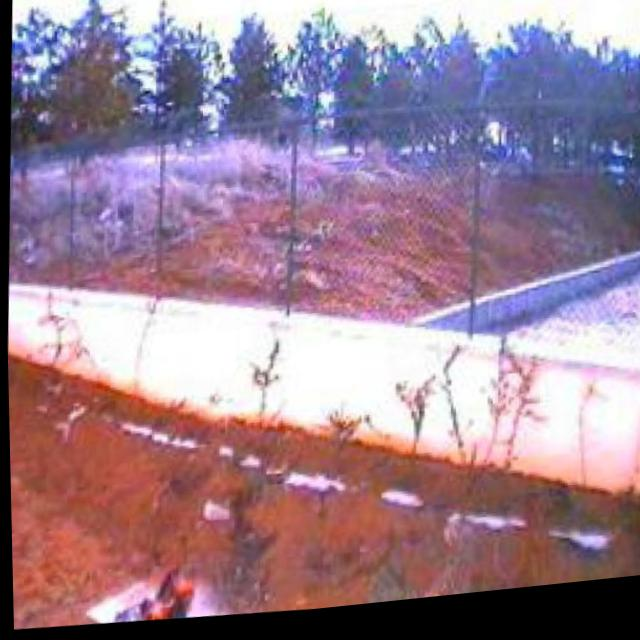Fire: (132, 570, 192, 626)
